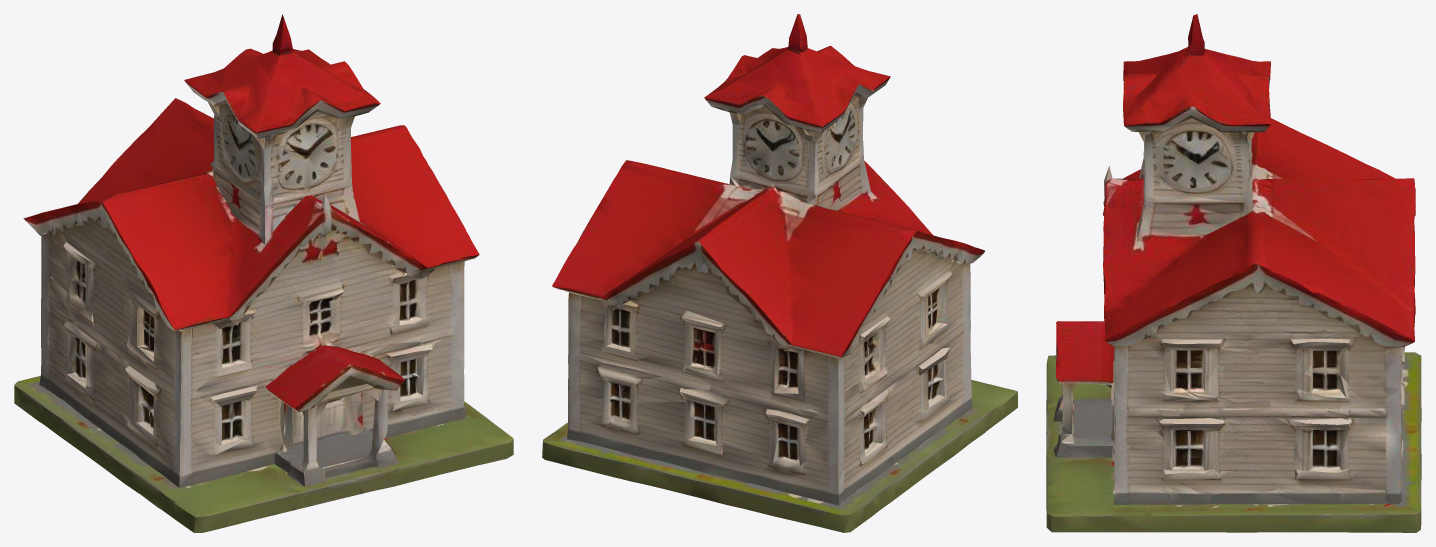
File: sapporo-clock-tower.glb
3 views of the same model, side by side, from view 1: azimuth 30°, elevation 25°; view 2: azimuth 150°, elevation 25°; view 3: azimuth 270°, elevation 25° (orthographic). The views are drawn at different scales.
Parts seen in each view (by area): view 1: logan-textured.obj; view 2: logan-textured.obj; view 3: logan-textured.obj.
Boxes of the visible parts, x1=… form: logan-textured.obj: x1=14, y1=14, x2=513, y2=532; logan-textured.obj: x1=542, y1=14, x2=1017, y2=532; logan-textured.obj: x1=1046, y1=14, x2=1421, y2=532.
Size of the model in its own units: 0.7925 by 1 by 0.7759.
Materials: 1 (1 with a texture image).
